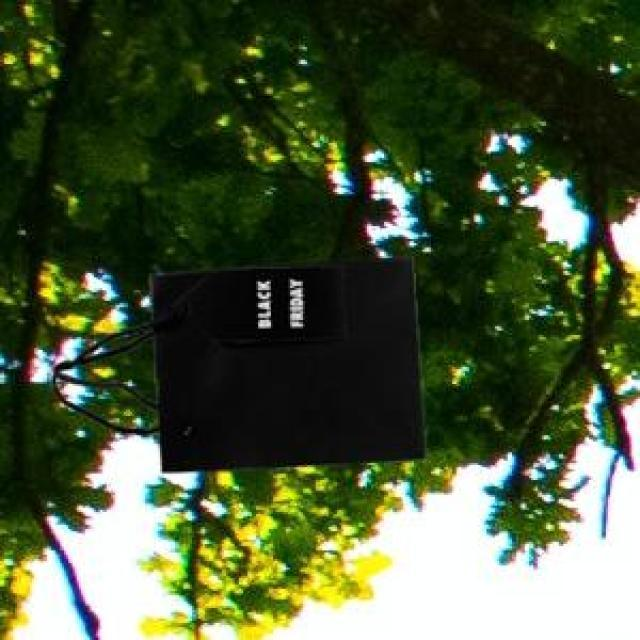paper: (49, 252, 420, 467)
